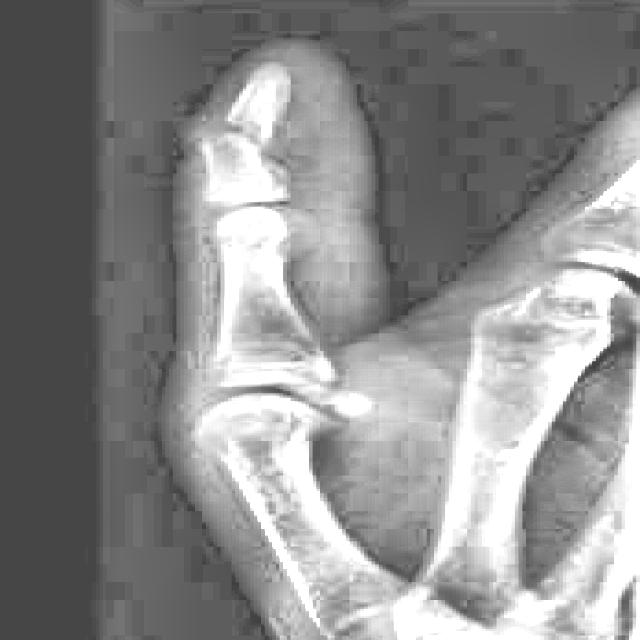fracture: (210, 111, 276, 151)
